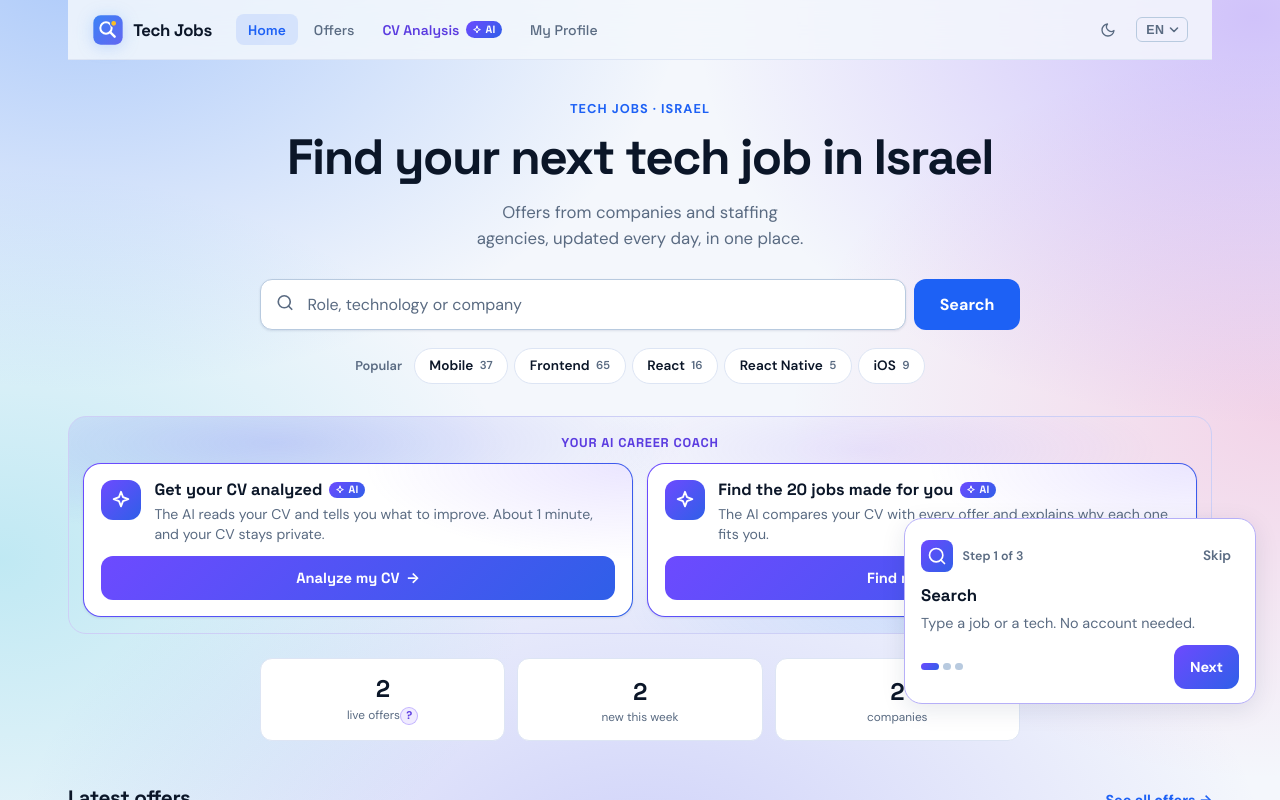
HomePage (integration) › an empty search opens the offers without a query
Click the button "Search": (967, 305) x1=914 y1=279 x2=1020 y2=330
(page scrolled)
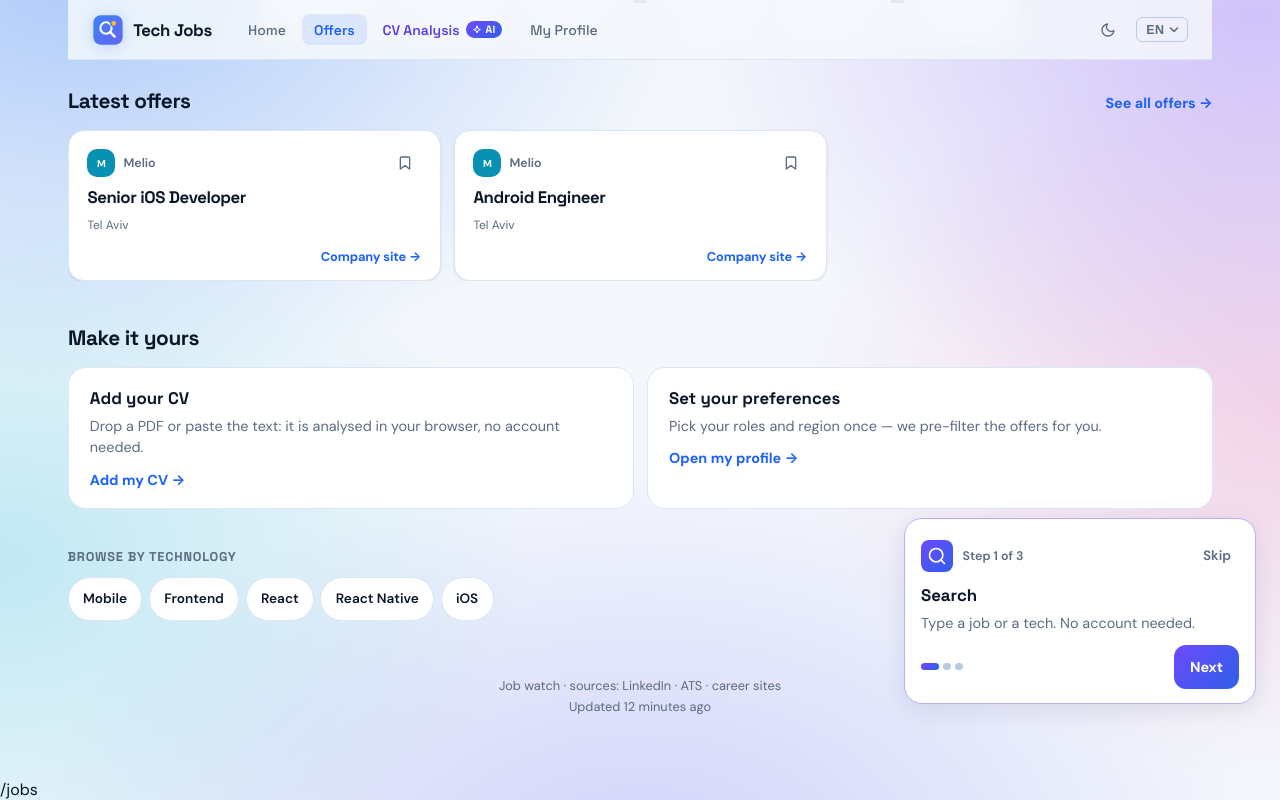
Now the text with test id "location" reads "/jobs", box x1=0 y1=779 x2=38 y2=799
